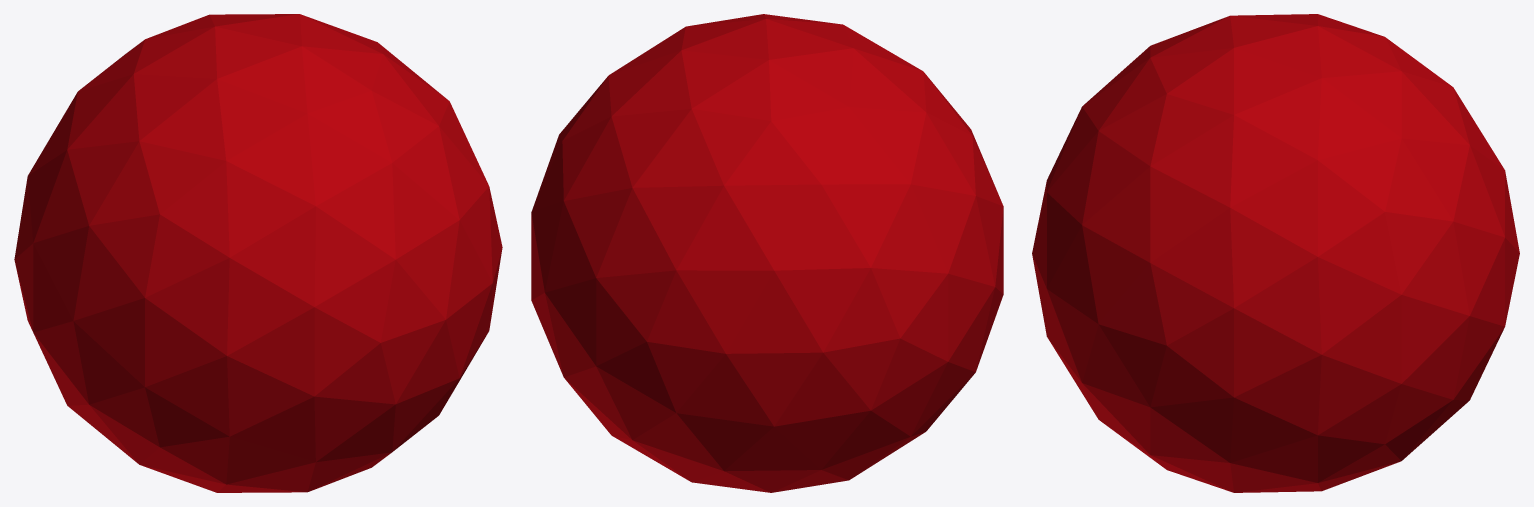
3 renders of one model, left to right at view 1: azimuth 30°, elevation 25°; view 2: azimuth 150°, elevation 25°; view 3: azimuth 270°, elevation 25°, orthographic.
Parts seen in each view (by area): view 1: planet; view 2: planet; view 3: planet.
Boxes of the visible parts, x1,y1,x2,y2 form: planet: (14,14,502,492); planet: (531,14,1003,492); planet: (1032,14,1519,492).
Size of the model in its own units: 166 by 166 by 169.
